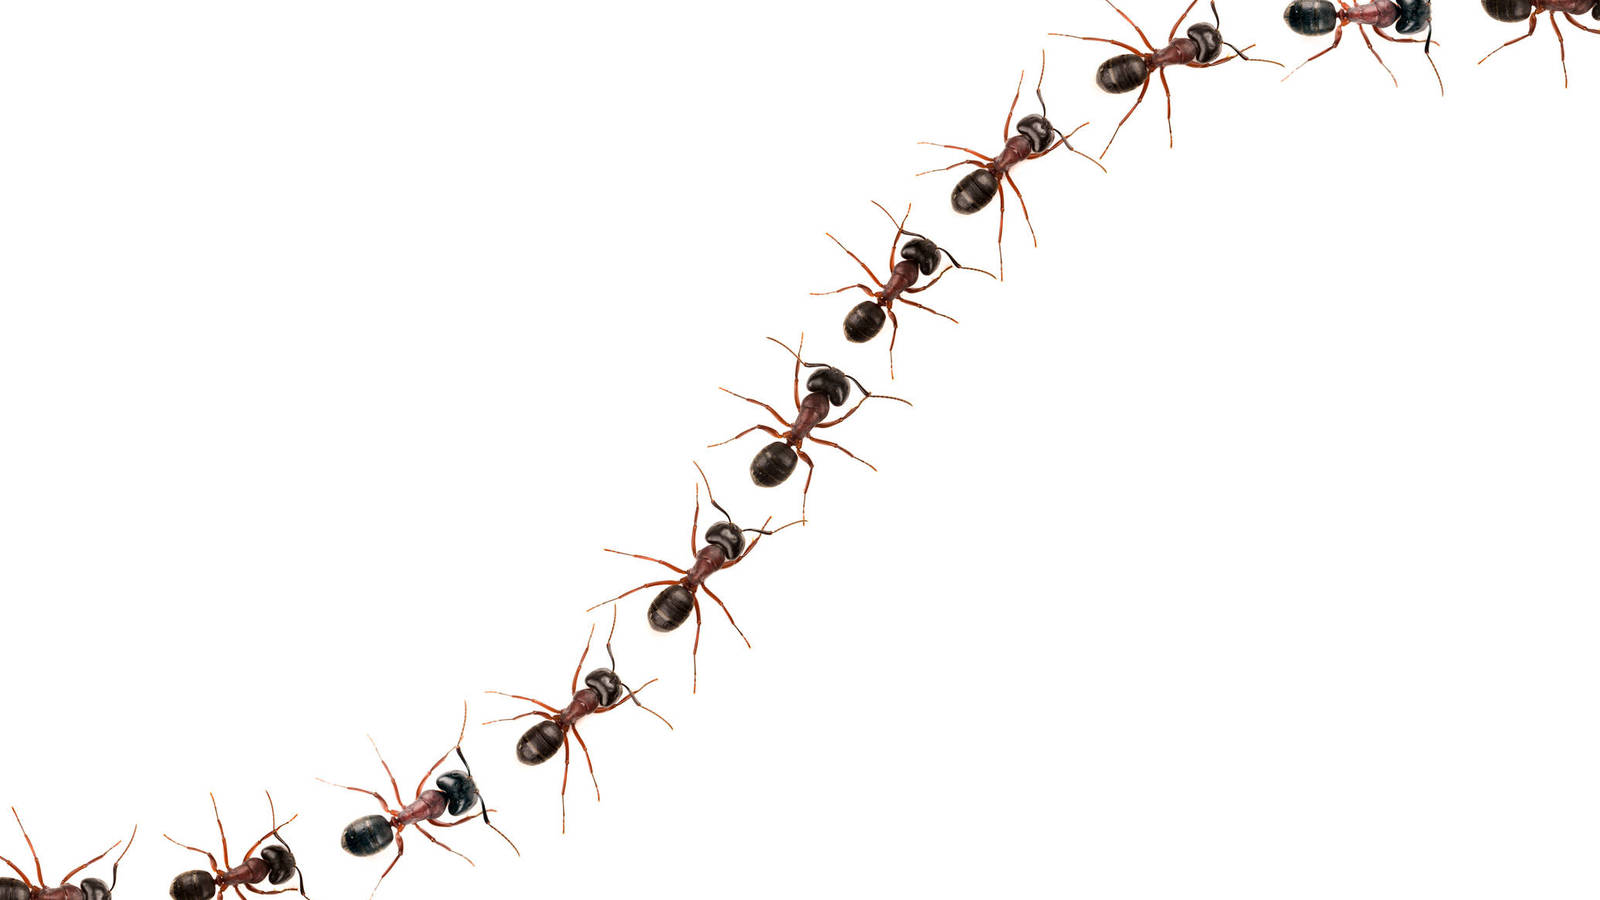ant: (610, 459, 800, 684), (710, 323, 905, 520), (316, 720, 527, 893), (490, 621, 654, 823), (803, 202, 1005, 364), (925, 73, 1111, 241), (1067, 5, 1279, 143), (498, 634, 644, 815), (336, 743, 516, 882), (936, 85, 1100, 236), (726, 348, 879, 510), (636, 489, 767, 669), (1082, 10, 1262, 126), (833, 220, 969, 354), (159, 785, 315, 900), (1270, 1, 1456, 92), (165, 803, 305, 900), (2, 818, 146, 900), (1469, 1, 1598, 80), (3, 849, 145, 900), (1280, 1, 1438, 46), (1470, 2, 1600, 26)
